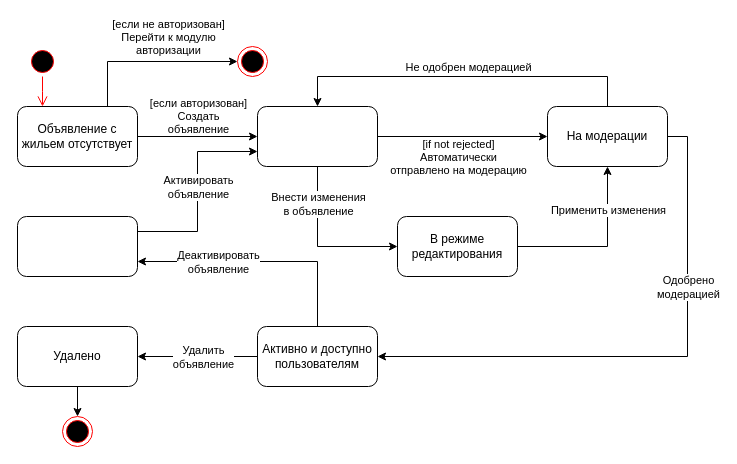
Some shapes in this 737 by 464 pixel diagram are drawn without their labels. Each missing label, with the centre of its shape:
В разделе "Сдать жилье": [317,136]
Неактивно: [77,246]
